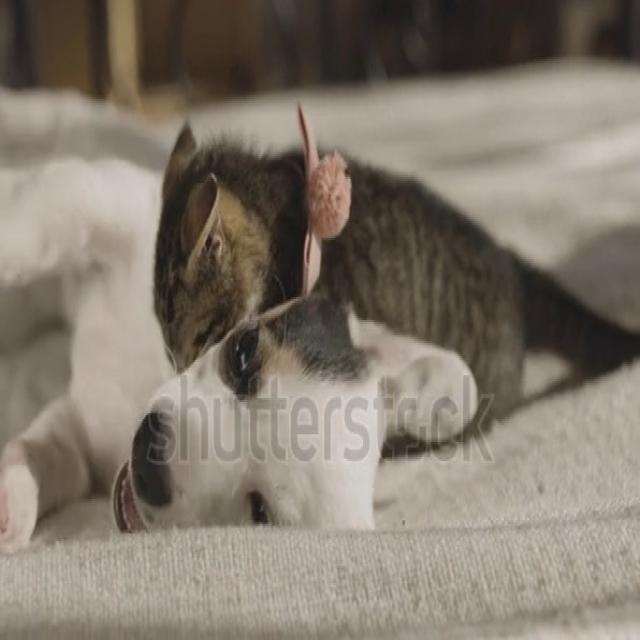normal_animals: (48, 88, 572, 640)
